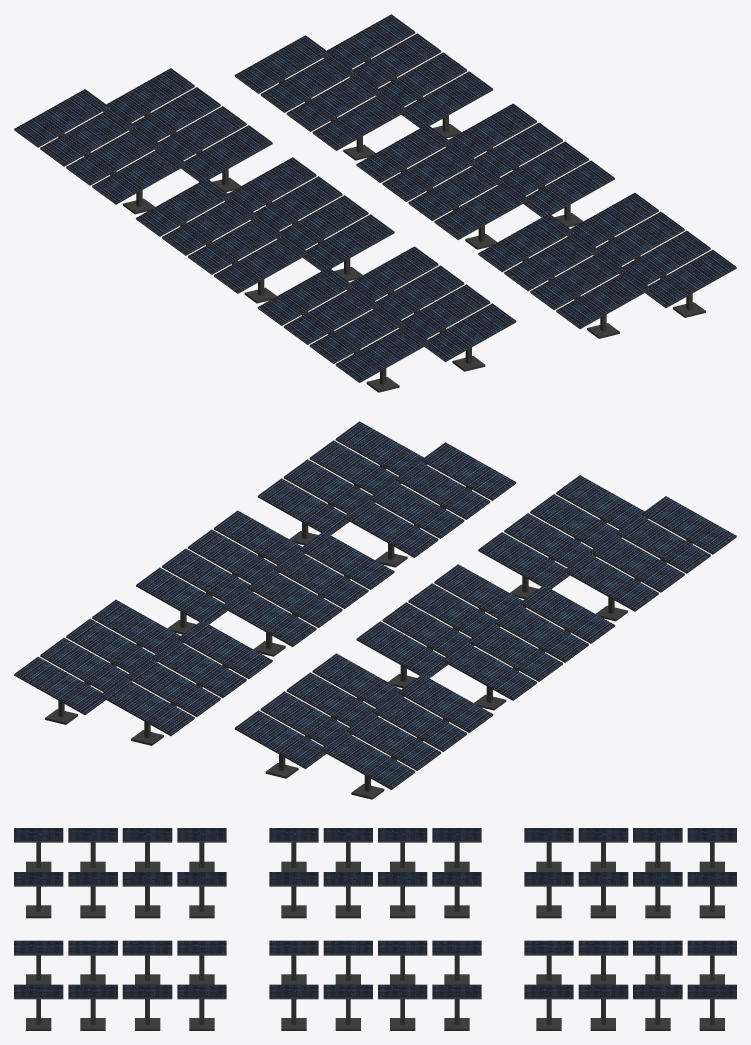
The model's file is Solar.glb.
3 renders of one model, top to bottom at view 1: azimuth 30°, elevation 25°; view 2: azimuth 150°, elevation 25°; view 3: azimuth 270°, elevation 25°, orthographic. The views are drawn at different scales.
Parts seen in each view (by area): view 1: Solar Panel.001; view 2: Solar Panel.001; view 3: Solar Panel.001.
Part boxes in pixels (x1=…): Solar Panel.001: x1=14, y1=14, x2=736, y2=392; Solar Panel.001: x1=14, y1=421, x2=736, y2=799; Solar Panel.001: x1=14, y1=828, x2=736, y2=1030.
Size of the model in its own units: 1.31 by 0.1469 by 2.08.
Materials: 2 (1 with a texture image).
